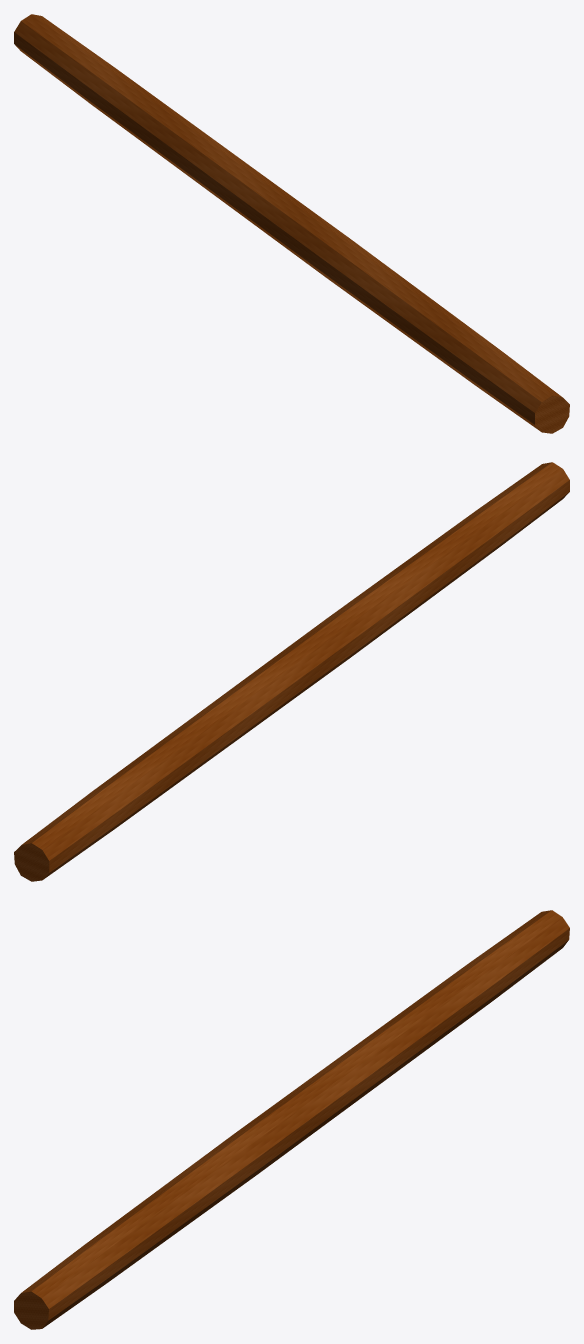
Rendered from AuxiliaBoltShaft.fbx.
3 renders of one model, top to bottom at view 1: azimuth 30°, elevation 25°; view 2: azimuth 150°, elevation 25°; view 3: azimuth 330°, elevation 25°, orthographic.
Parts seen in each view (by area): view 1: AuxiliaBoltShaft_GameExport; view 2: AuxiliaBoltShaft_GameExport; view 3: AuxiliaBoltShaft_GameExport.
Part boxes in pixels (<box>): AuxiliaBoltShaft_GameExport: <box>14,14,569,433</box>; AuxiliaBoltShaft_GameExport: <box>14,462,569,881</box>; AuxiliaBoltShaft_GameExport: <box>14,910,569,1329</box>.
Size of the model in its own units: 0.501 by 11.45 by 0.5232.
